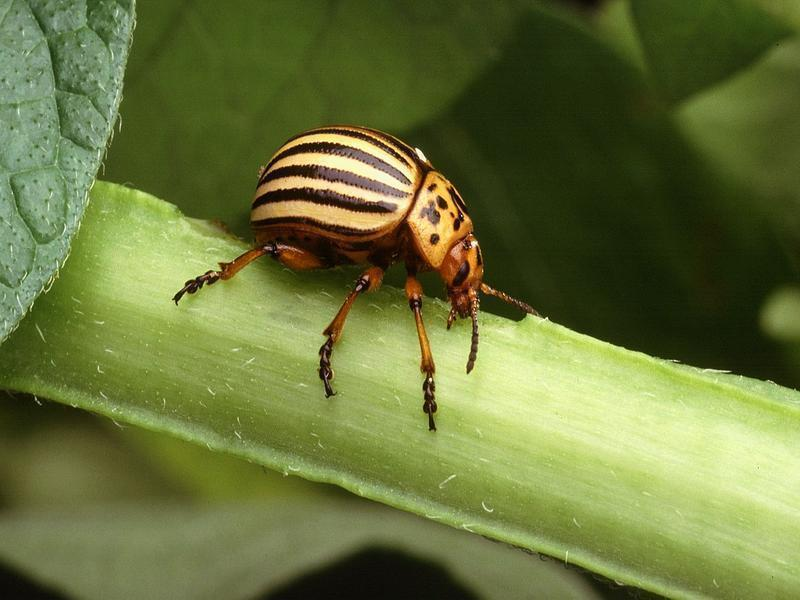hrosc: (244, 119, 505, 328)
